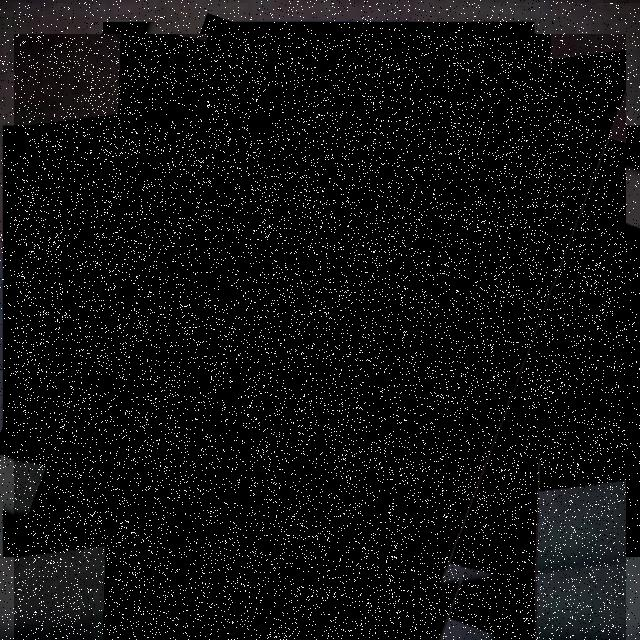dua puluh ribu rupiah: (14, 34, 626, 640)
